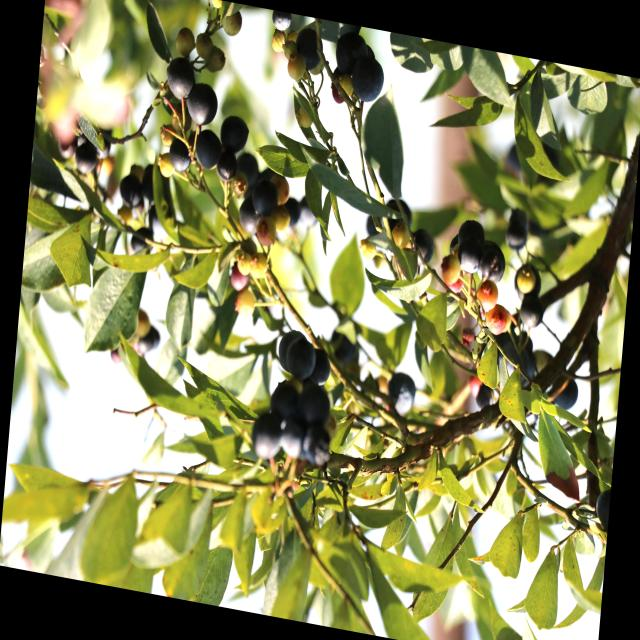blueberry: (244, 408, 286, 467), (182, 73, 224, 132), (345, 51, 387, 110), (163, 46, 202, 108), (294, 374, 336, 430), (281, 329, 321, 385), (244, 170, 283, 225), (298, 420, 339, 472), (332, 25, 370, 81), (544, 369, 584, 421), (472, 234, 510, 288), (291, 22, 324, 81), (302, 340, 338, 394), (264, 370, 298, 426), (272, 317, 303, 378), (278, 416, 312, 470), (191, 123, 226, 175), (216, 108, 255, 154), (122, 218, 159, 265), (451, 225, 484, 277), (164, 130, 196, 183), (113, 166, 147, 215), (68, 134, 100, 182), (227, 142, 254, 196), (51, 124, 84, 168), (588, 480, 612, 540), (212, 143, 242, 190), (233, 195, 264, 240), (265, 9, 300, 40)
blueberry-halfripe: (475, 276, 499, 310), (485, 303, 509, 337), (255, 215, 277, 249), (229, 264, 250, 294)
blueberry-unripe: (514, 264, 537, 298), (441, 252, 462, 286), (236, 287, 256, 319), (391, 223, 411, 252), (252, 252, 268, 281), (236, 251, 253, 275), (359, 237, 376, 261)
